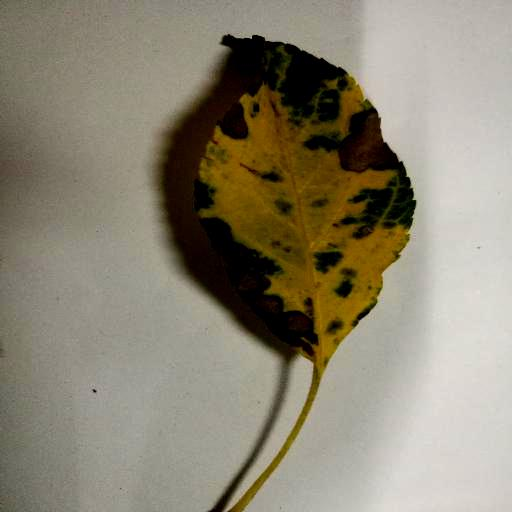Brown_Spot: (204, 222, 313, 349), (275, 52, 335, 110), (338, 118, 387, 175), (218, 102, 269, 140)
